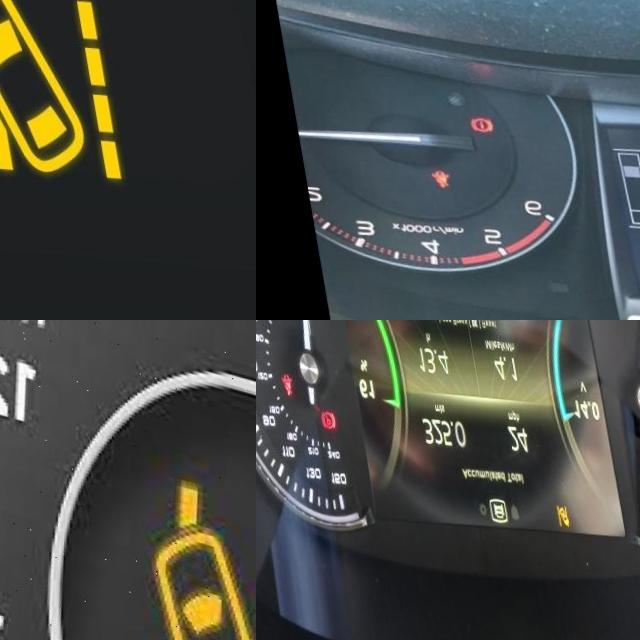Seat Belt: (419, 166, 442, 188), (267, 372, 284, 394)
